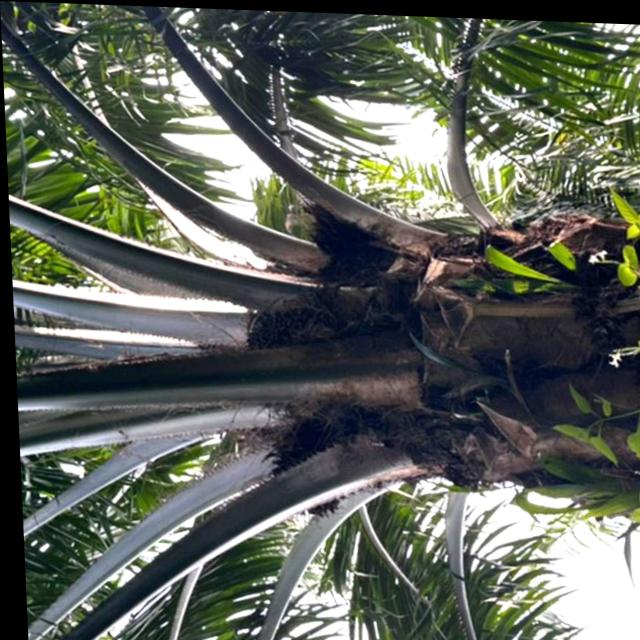unripe: (252, 408, 371, 526), (221, 283, 359, 371)
